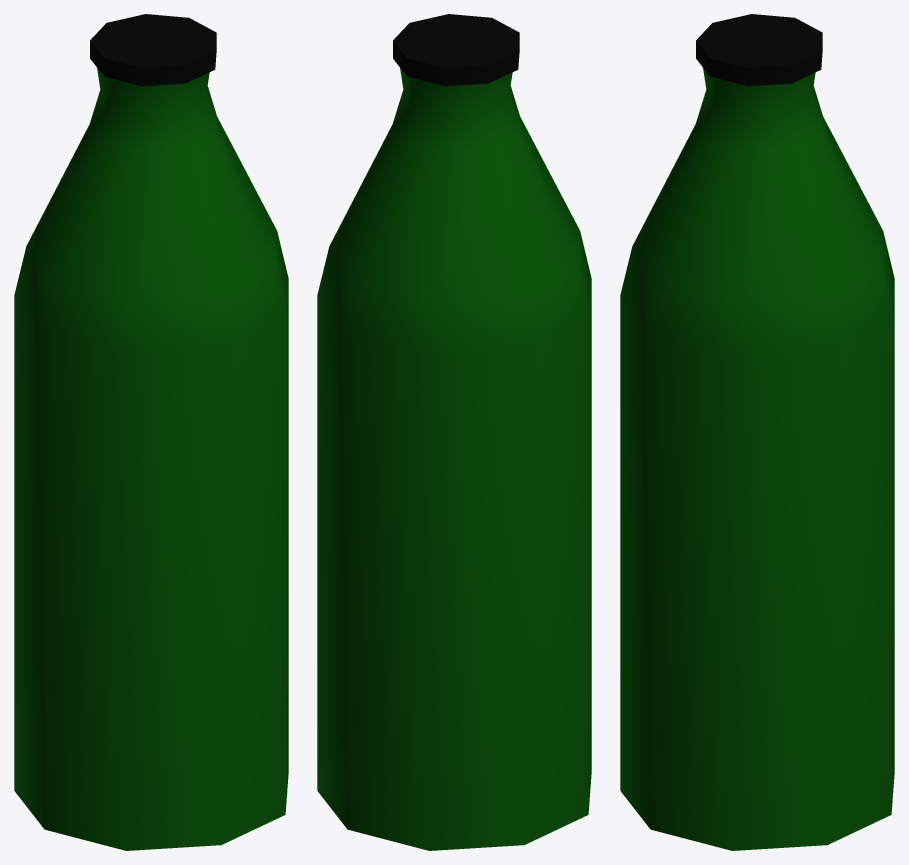
Rendered from jug17.FBX.
3 views of the same model, side by side, from view 1: azimuth 30°, elevation 25°; view 2: azimuth 150°, elevation 25°; view 3: azimuth 270°, elevation 25° (orthographic).
Visible parts, largest first — view 1: SM_jug17_0; view 2: SM_jug17_0; view 3: SM_jug17_0.
Part boxes in pixels (x1,y1,x2,y2): SM_jug17_0: (14,14,288,850); SM_jug17_0: (317,14,591,850); SM_jug17_0: (620,14,894,850).
Size of the model in its own units: 9.84 by 9.75 by 29.49.
